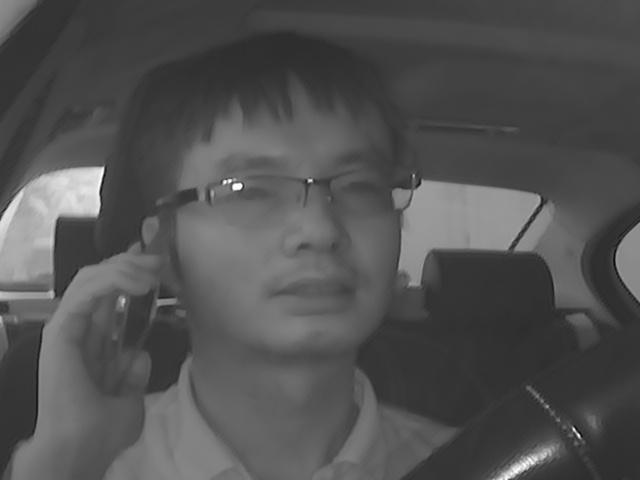hand: (34, 256, 172, 448)
